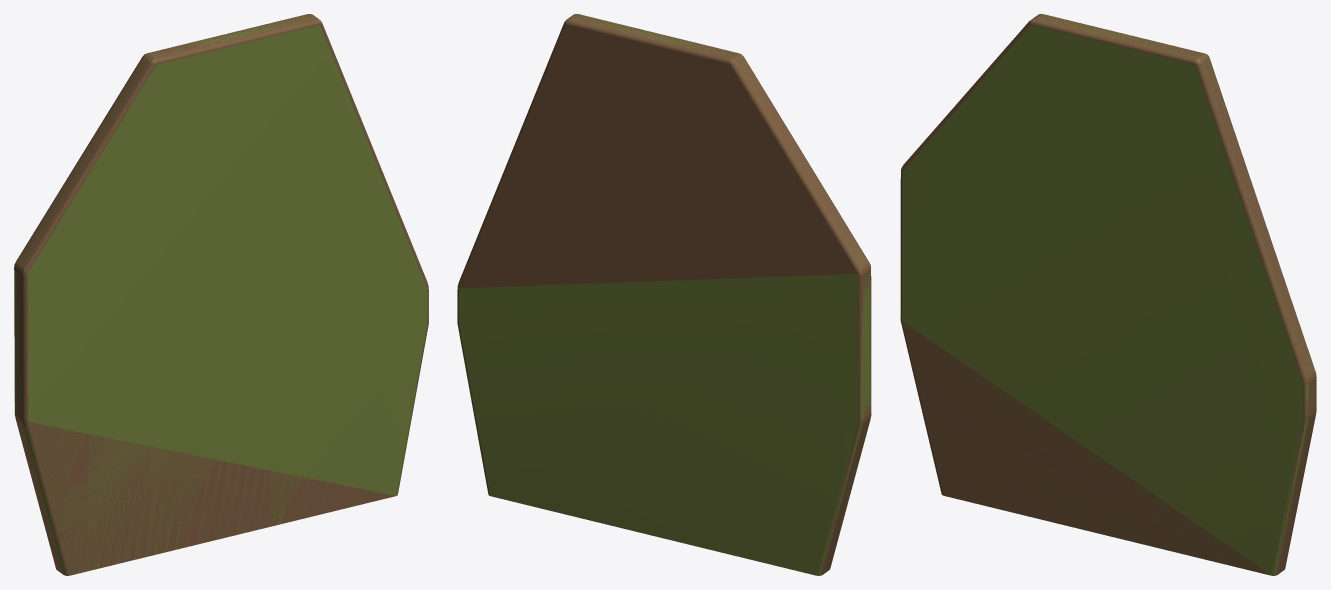
File: M_md_Stall3_end_02.fbx
The picture shows the model from 3 angles, left to right: view 1: azimuth 30°, elevation 25°; view 2: azimuth 150°, elevation 25°; view 3: azimuth 330°, elevation 25°; orthographic projection.
Parts seen in each view (by area): view 1: M_md_Stall3_end_02_LOD0, M_md_Stall3_end_02_col_01; view 2: M_md_Stall3_end_02_LOD0, M_md_Stall3_end_02_col_01; view 3: M_md_Stall3_end_02_LOD0, M_md_Stall3_end_02_col_01.
Part boxes in pixels (x1,y1,x2,y2): M_md_Stall3_end_02_LOD0: [14, 14, 428, 575]; M_md_Stall3_end_02_col_01: [14, 14, 428, 575]; M_md_Stall3_end_02_LOD0: [457, 14, 871, 575]; M_md_Stall3_end_02_col_01: [457, 14, 870, 575]; M_md_Stall3_end_02_LOD0: [900, 14, 1316, 575]; M_md_Stall3_end_02_col_01: [902, 14, 1316, 575].
Size of what is drawn, in the model's own units: 133 by 154 by 6.98.
